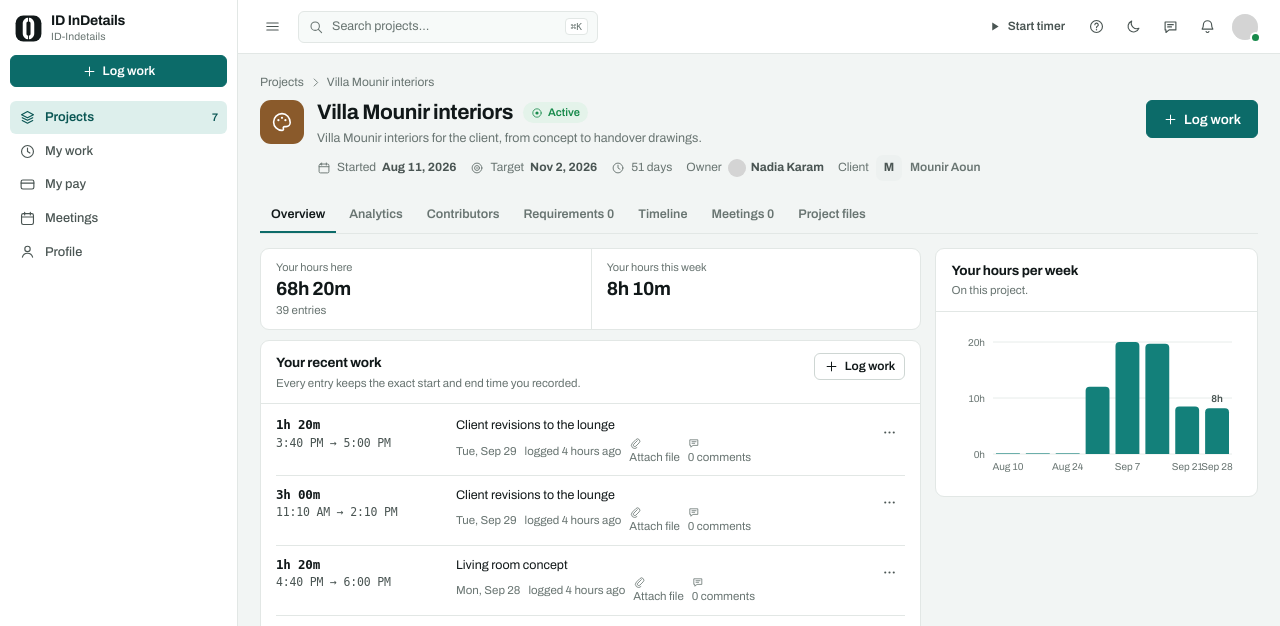
Test: a Design project, by permission › adds who put the hours in and the timeline for an employee given work_entry:view_all
Expected: the text "Your hours here" is shown, [276, 261, 352, 273]
Click the tab "Contributors".
click(463, 215)  # box [416, 197, 511, 233]
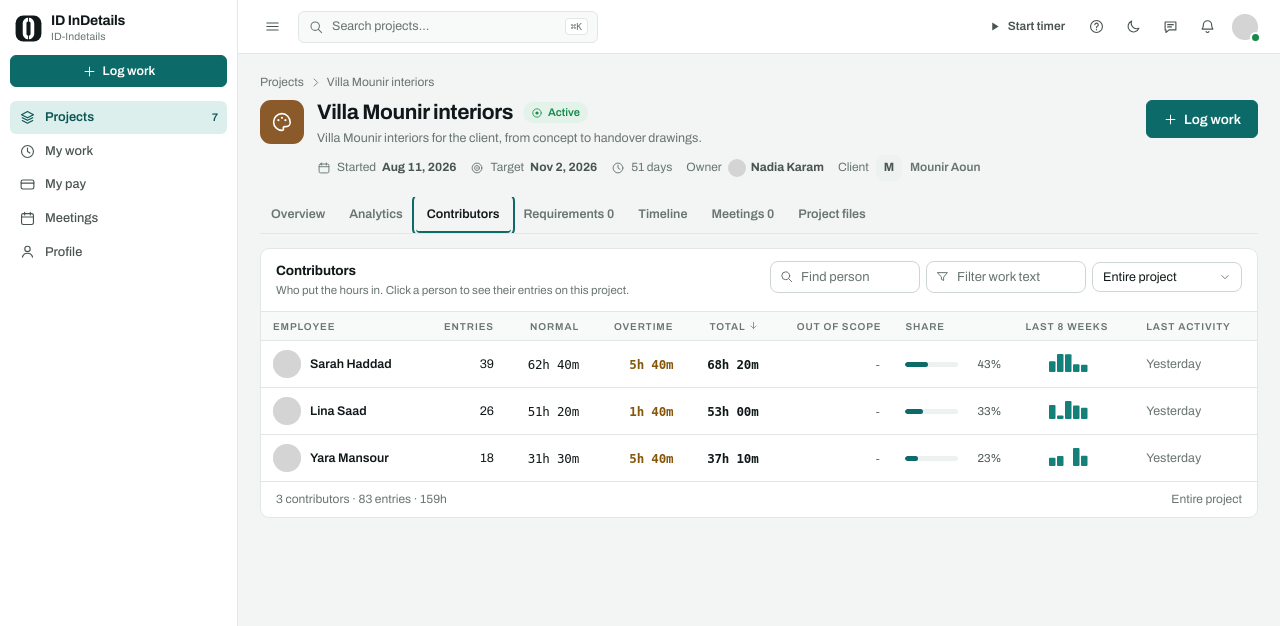
Now the text "Who put the hours in. Click a person to see their entries on this project." is shown, box [276, 282, 684, 299]
